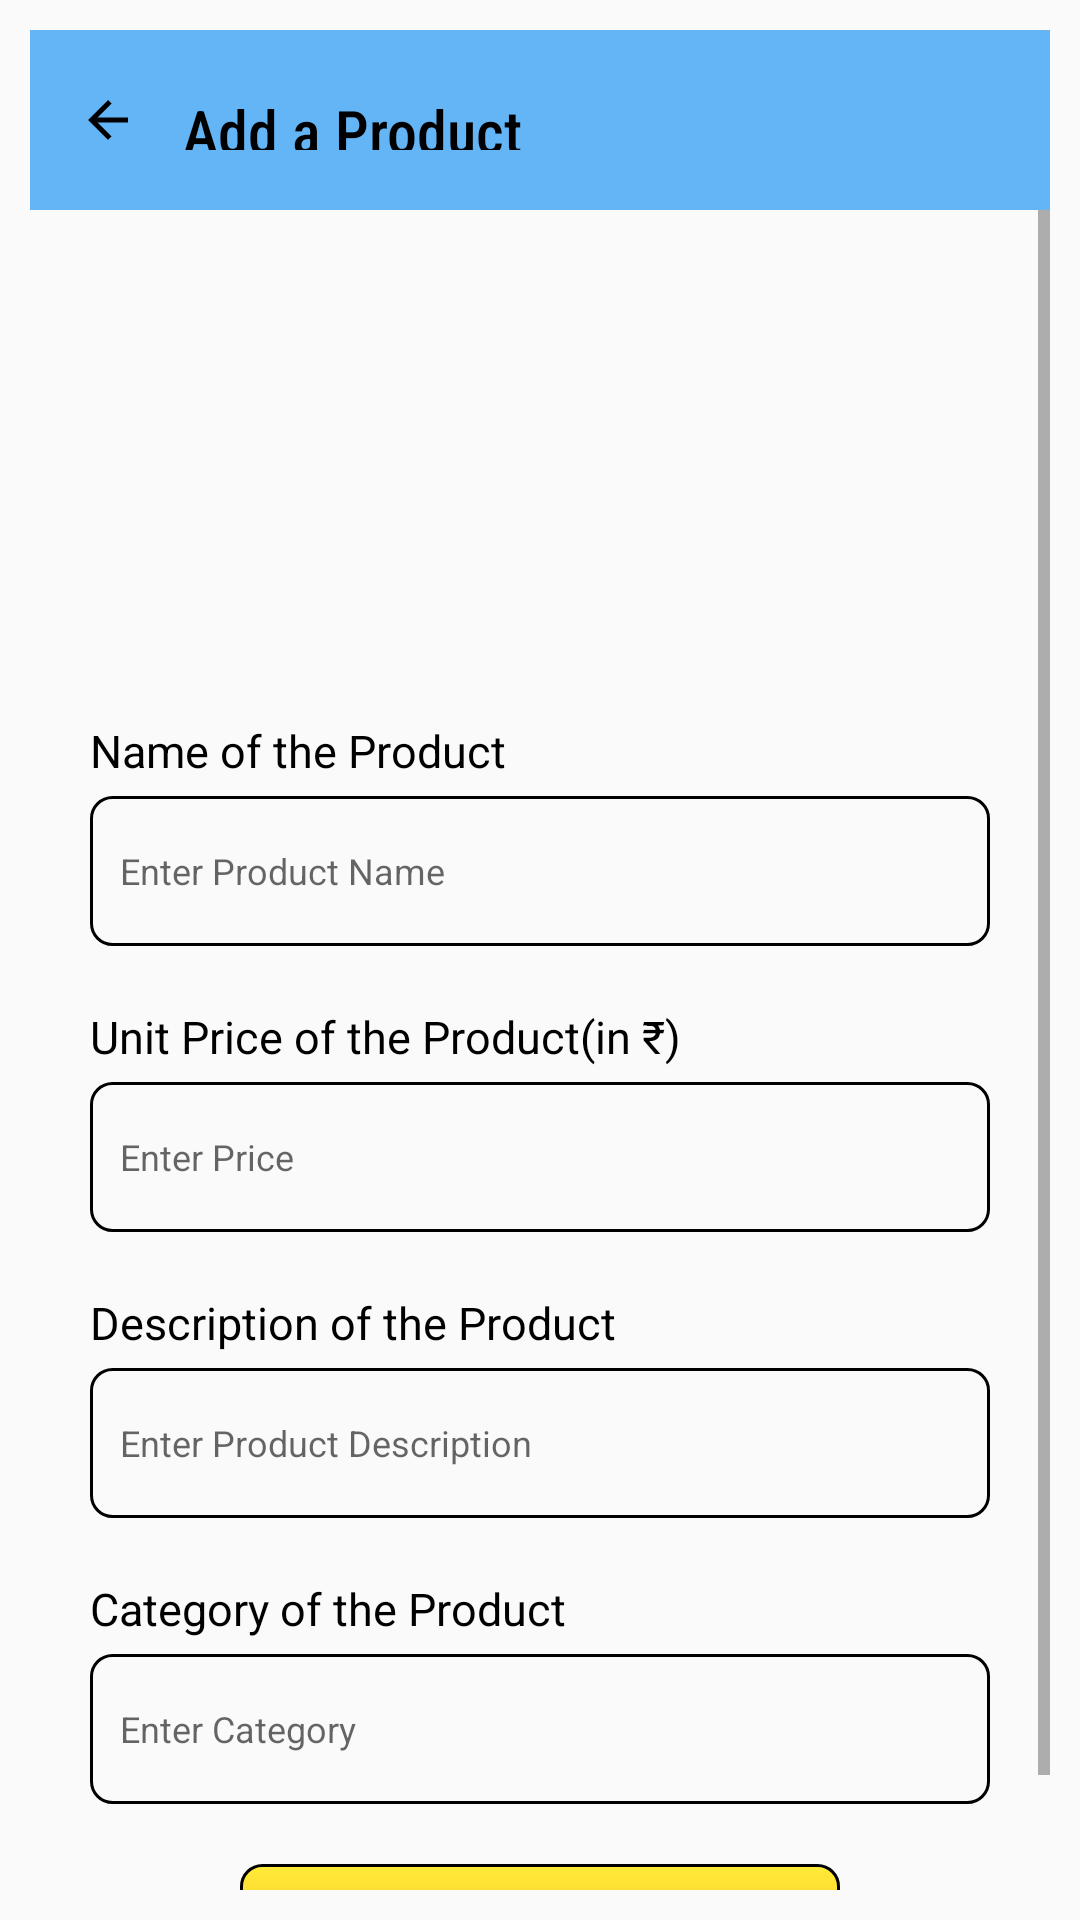

Point at icon controls on the screen. Image size 1080px×1920px, points as (x=x, y=y).
back: (x=108, y=120)
